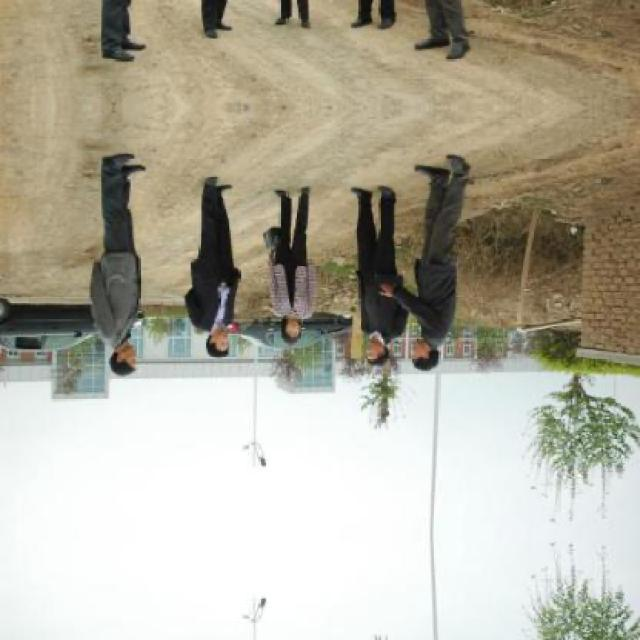sin casco: (170, 313, 271, 372), (416, 317, 464, 382), (91, 330, 150, 382), (356, 335, 398, 382), (270, 318, 314, 353)
